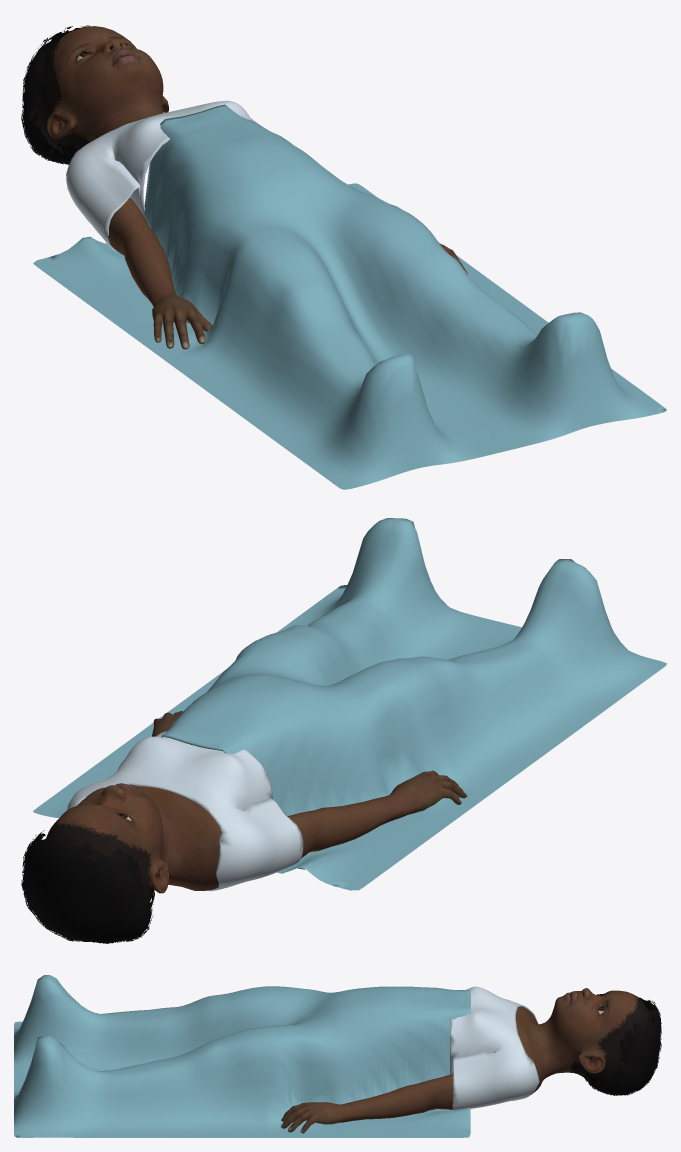
The picture shows the model from 3 angles, top to bottom: view 1: azimuth 30°, elevation 25°; view 2: azimuth 150°, elevation 25°; view 3: azimuth 270°, elevation 25°; orthographic projection. The views are drawn at different scales.
Visible parts, largest first — view 1: sheet, body, gown, arms, hair; view 2: sheet, gown, body, hair, arms; view 3: sheet, body, gown, arms, hair.
Boxes of the visible parts, x1,y1,x2,y2 form: sheet: [33, 104, 666, 489]; body: [38, 26, 168, 154]; gown: [66, 100, 256, 251]; arms: [108, 198, 467, 349]; hair: [21, 25, 89, 164]; sheet: [33, 518, 666, 890]; gown: [67, 731, 303, 891]; body: [43, 783, 221, 903]; hair: [21, 830, 154, 943]; arms: [152, 711, 466, 858]; sheet: [14, 975, 470, 1137]; body: [516, 988, 651, 1094]; gown: [450, 986, 539, 1110]; arms: [281, 1074, 453, 1133]; hair: [584, 997, 661, 1095].
Size of the model in its own units: 0.4695 by 0.1736 by 1.11.
8 materials, 6 textured.
